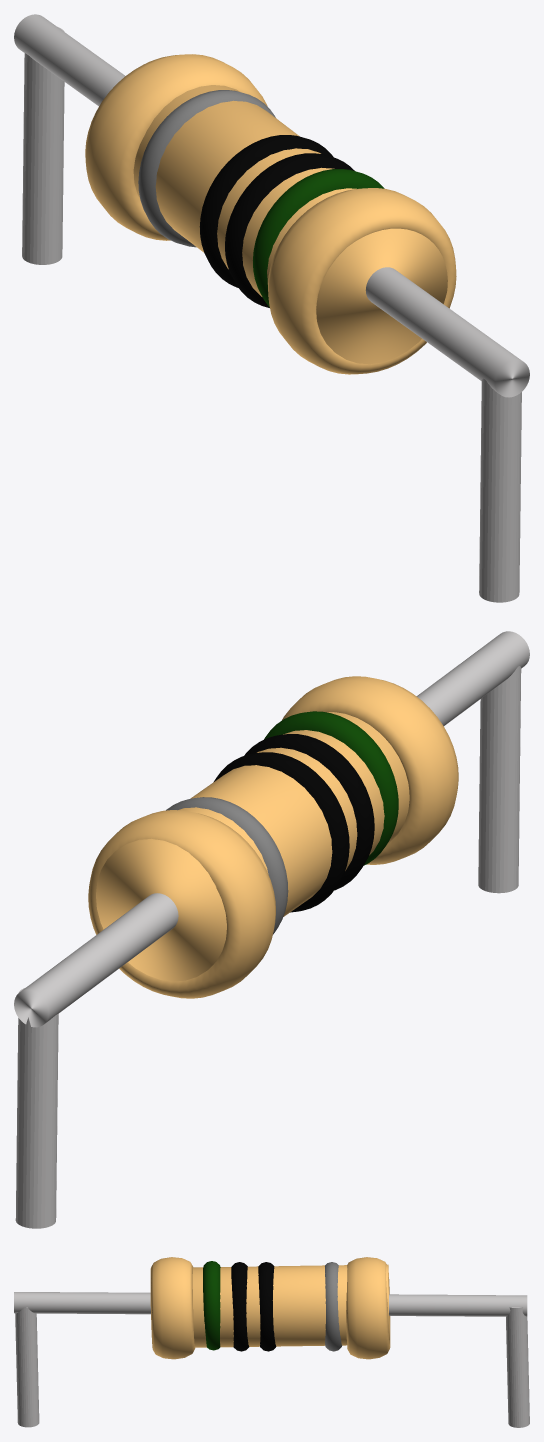
File: Resistor 50.fbx
3 views of the same model, one above another, from view 1: azimuth 30°, elevation 25°; view 2: azimuth 150°, elevation 25°; view 3: azimuth 270°, elevation 25° (orthographic). The views are drawn at different scales.
Parts seen in each view (by area): view 1: Torus.001, Cylinder.001, Cylinder.002, Cylinder.004; view 2: Torus.001, Cylinder.001, Cylinder.002, Cylinder.004; view 3: Torus.001, Cylinder.001, Cylinder.004, Cylinder.002.
Part boxes in pixels (x1,y1,x2,y2): Torus.001: (85,54,456,374); Cylinder.001: (14,14,529,397); Cylinder.002: (479,378,521,602); Cylinder.004: (22,27,64,264); Torus.001: (88,676,458,998); Cylinder.001: (14,631,529,1027); Cylinder.002: (478,666,521,893); Cylinder.004: (15,988,58,1228); Torus.001: (150,1257,390,1359); Cylinder.001: (14,1292,527,1316); Cylinder.004: (506,1307,529,1427); Cylinder.002: (15,1307,39,1427).
Size of the model in its own units: 147 by 247 by 719.
